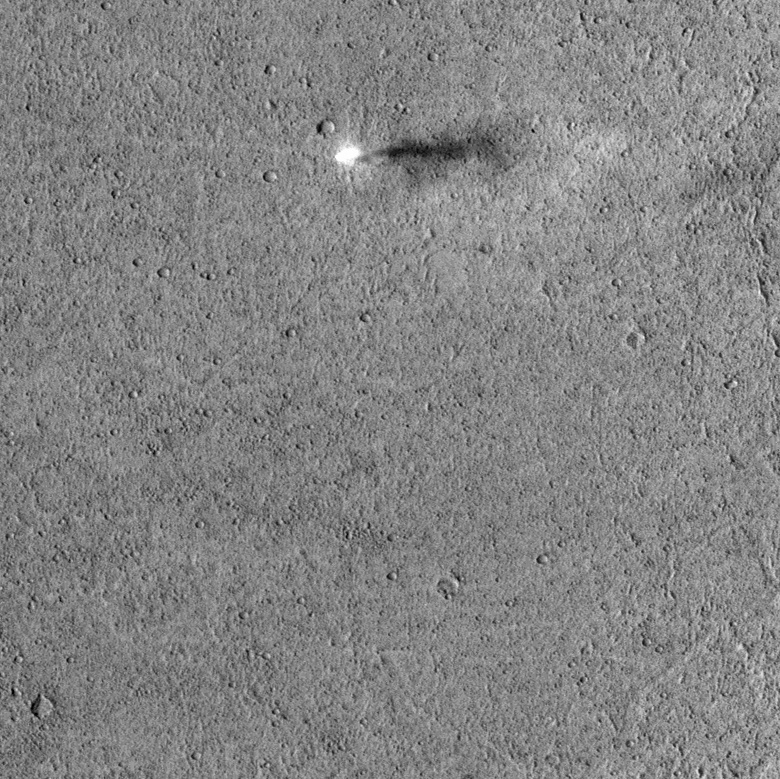dust_devil: (330, 128, 510, 178)
